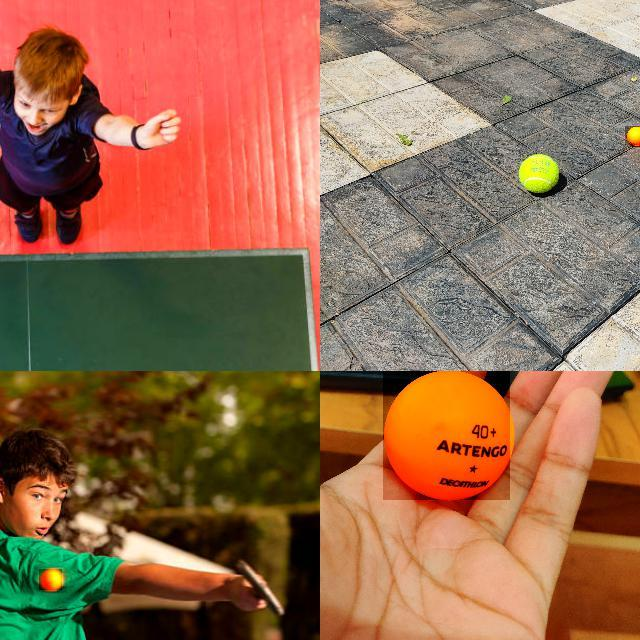ping-pong-ball: (383, 371, 511, 501), (39, 569, 63, 591), (625, 126, 639, 147)
